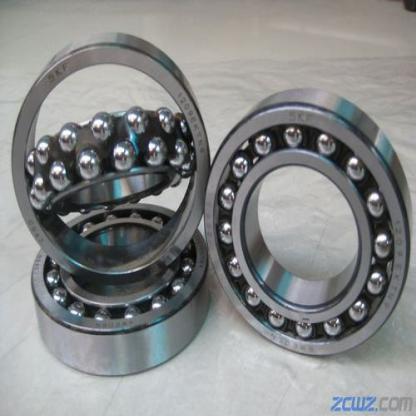FOD: (202, 82, 413, 360), (27, 201, 209, 376)
